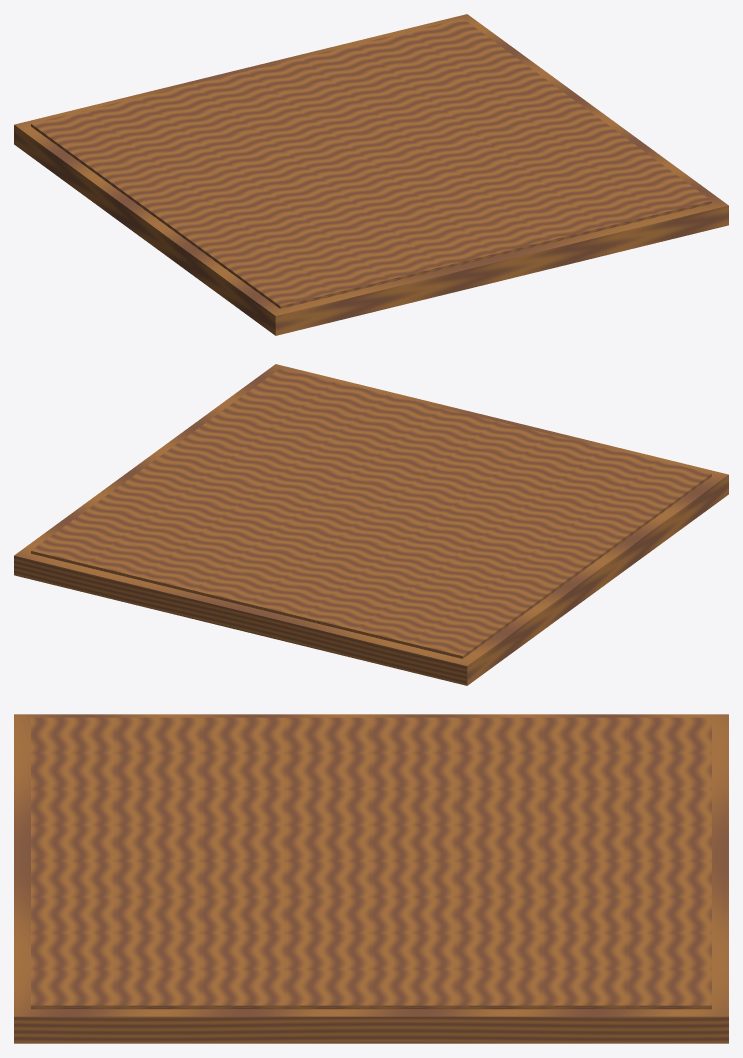
Rendered from board.obj.
3 views of the same model, one above another, from view 1: azimuth 30°, elevation 25°; view 2: azimuth 150°, elevation 25°; view 3: azimuth 270°, elevation 25° (orthographic). The views are drawn at different scales.
Size of the model in its own units: 8.4 by 0.4 by 8.4.
2 materials, 2 textured.
